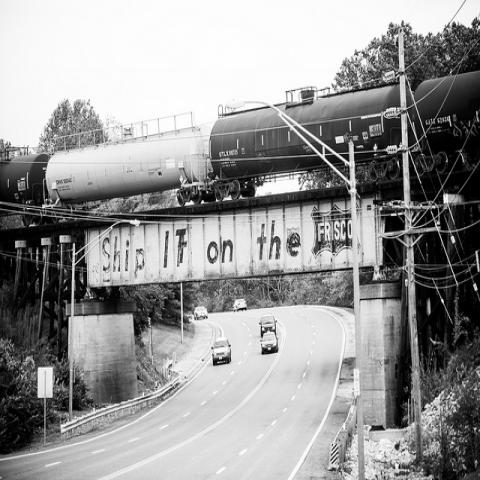car: (211, 337, 232, 365), (258, 312, 277, 337), (260, 332, 279, 354), (193, 306, 209, 319), (232, 299, 246, 312)
